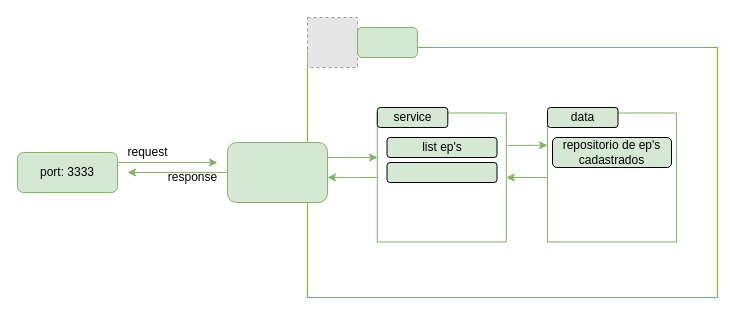
Image size: 735x315. Some labels were removed from this diagram. Grey dashed boxes stand in for pictures. The box of each missing label's shape, as (x1, y1, x2, y2) in pixels:
filtrar ep's: (386, 162, 497, 182)
podcast controller: (226, 142, 328, 202)
Server: (356, 26, 418, 58)
